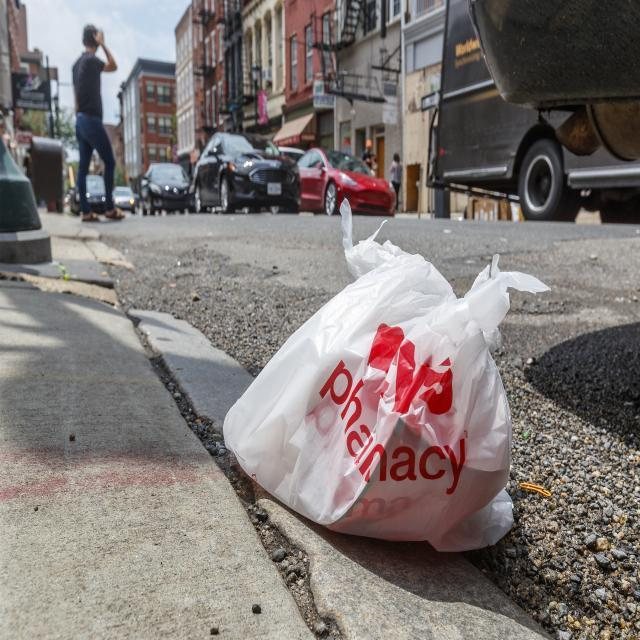Garbage_Bag: (216, 185, 556, 560)
